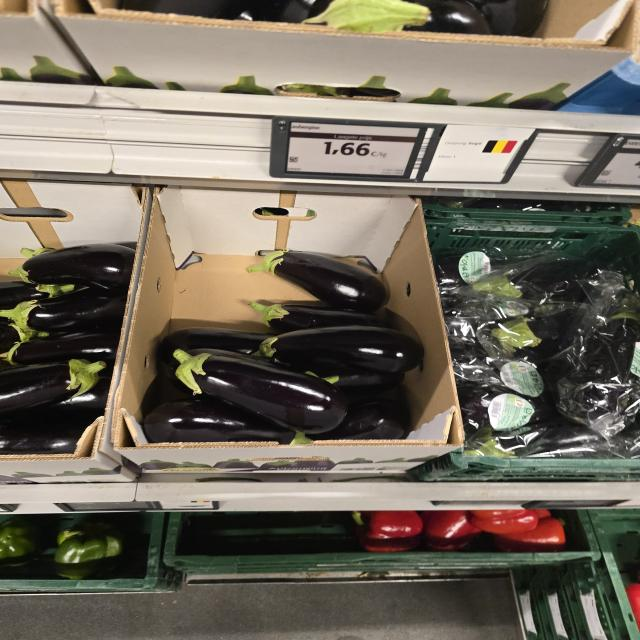Bell Pepper: (54, 521, 124, 580), (352, 511, 423, 552), (494, 515, 565, 552), (422, 510, 482, 550), (470, 508, 551, 535), (0, 515, 41, 567)
Eggplant: (172, 349, 347, 435), (248, 250, 386, 313), (255, 325, 424, 375), (143, 397, 311, 444), (0, 360, 107, 415), (8, 244, 135, 290), (0, 287, 127, 332), (1, 328, 121, 366), (249, 302, 384, 334)
